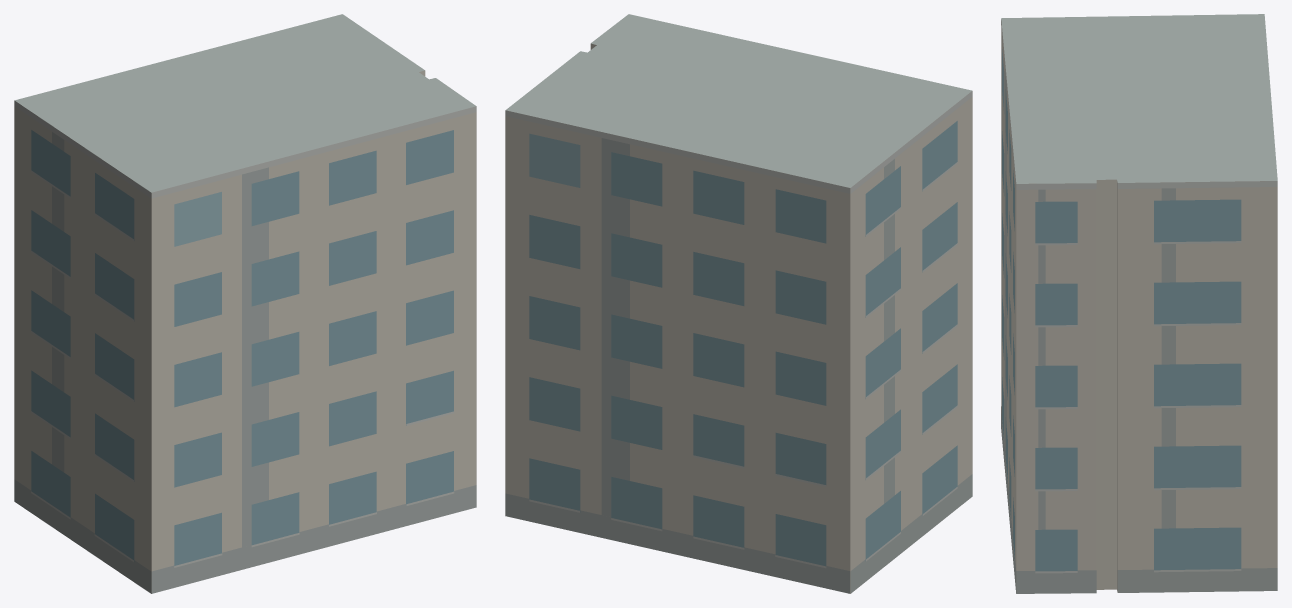
Rendered from survey-upis-32684969.glb.
3 views of the same model, side by side, from view 1: azimuth 30°, elevation 25°; view 2: azimuth 150°, elevation 25°; view 3: azimuth 270°, elevation 25° (orthographic). The views are drawn at different scales.
Parts seen in each view (by area): view 1: survey-upis-32684969.tmp; view 2: survey-upis-32684969.tmp; view 3: survey-upis-32684969.tmp.
Part boxes in pixels (<box>): survey-upis-32684969.tmp: <box>14,14,476,593</box>; survey-upis-32684969.tmp: <box>505,14,972,593</box>; survey-upis-32684969.tmp: <box>1001,14,1277,593</box>.
Bounding box in the file's own units: 14.76 × 16.6 × 10.16.
